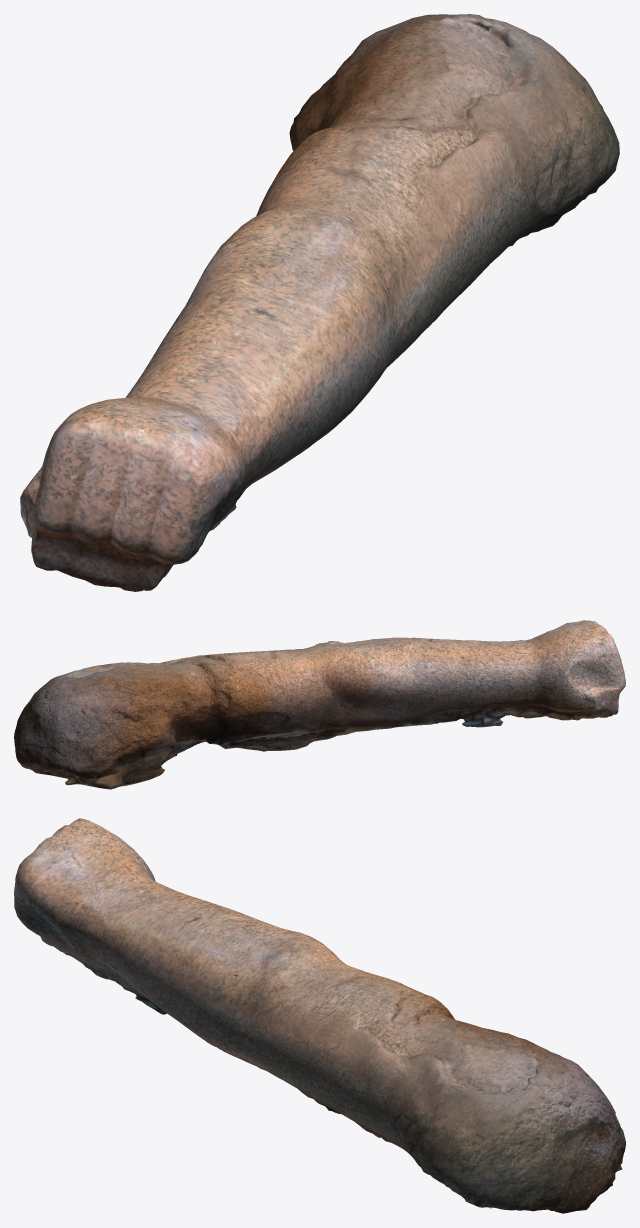
File: colossalArm.obj
The picture shows the model from 3 angles, top to bottom: view 1: azimuth 30°, elevation 25°; view 2: azimuth 150°, elevation 25°; view 3: azimuth 270°, elevation 25°; orthographic projection. The views are drawn at different scales.
Bounding box in the file's own units: 106 × 23.4 × 94.14.
Materials: 1 (1 with a texture image).
